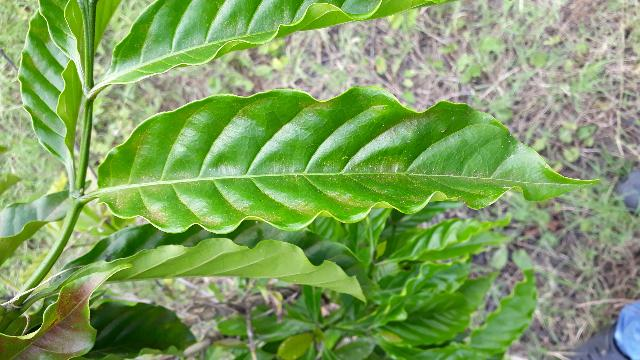healthy: (89, 80, 609, 237)
